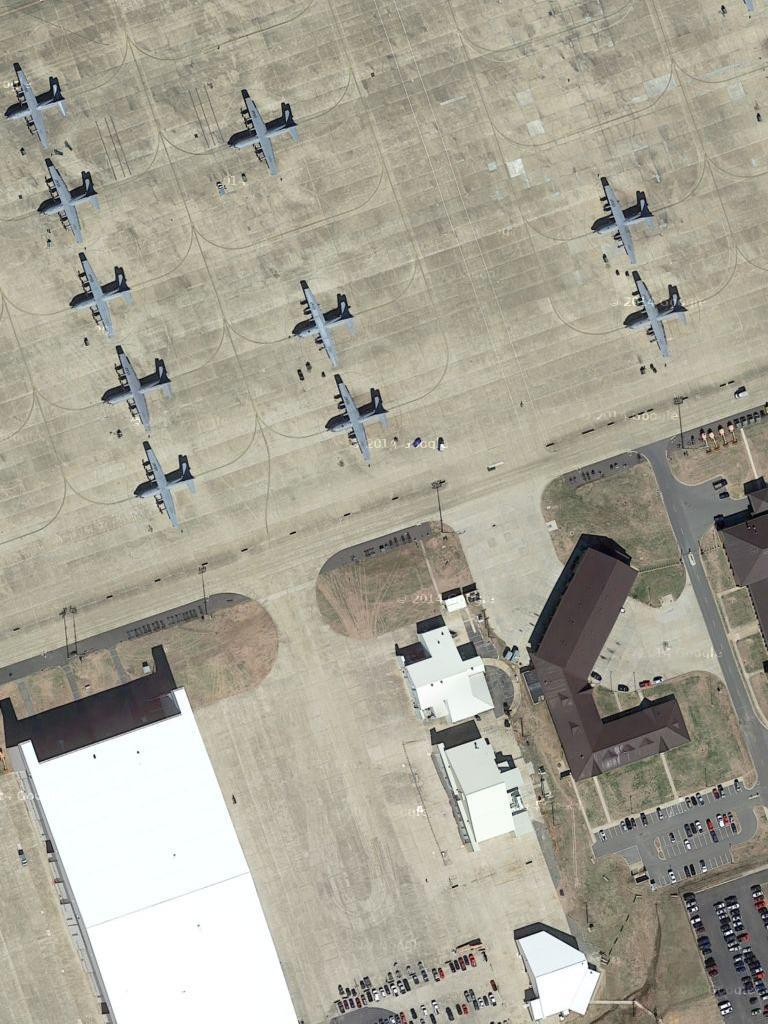C-130: (322, 374, 389, 468), (619, 266, 687, 358), (227, 87, 297, 175), (289, 277, 359, 364), (103, 340, 170, 430), (132, 441, 194, 526), (8, 59, 68, 146), (592, 179, 653, 262), (71, 247, 130, 331), (40, 158, 98, 239)
